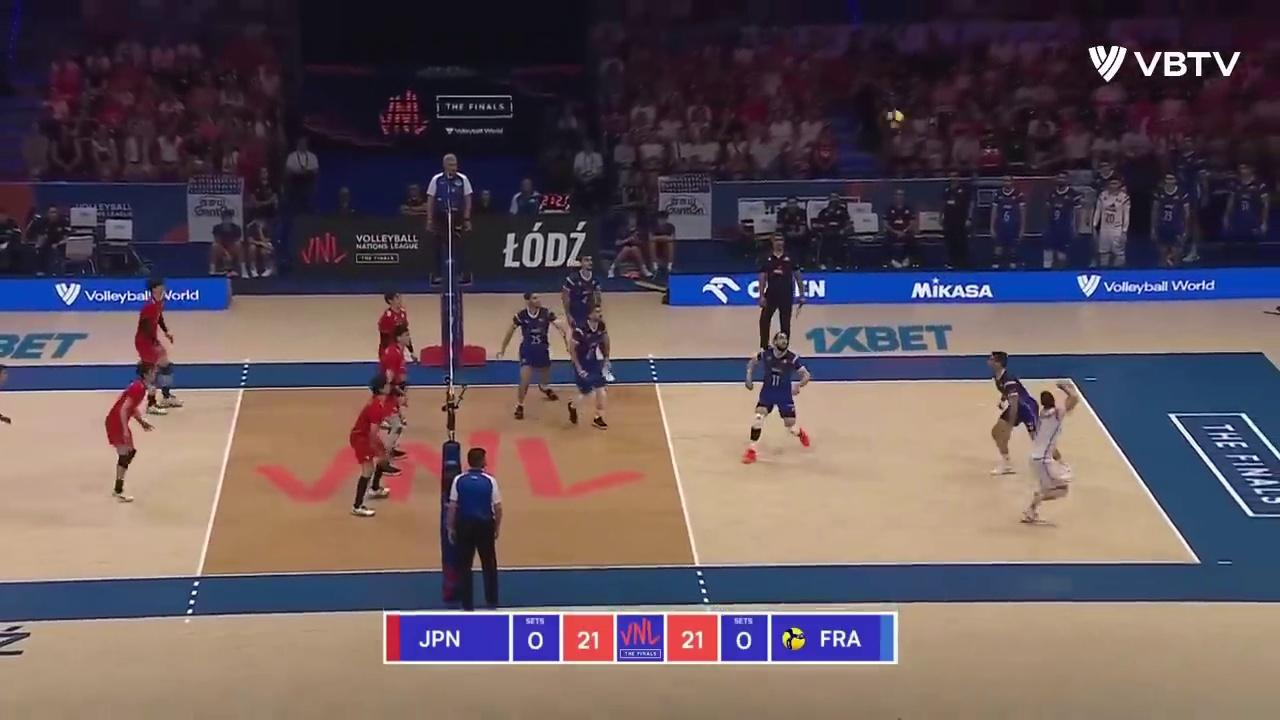ball: (885, 108, 905, 130)
